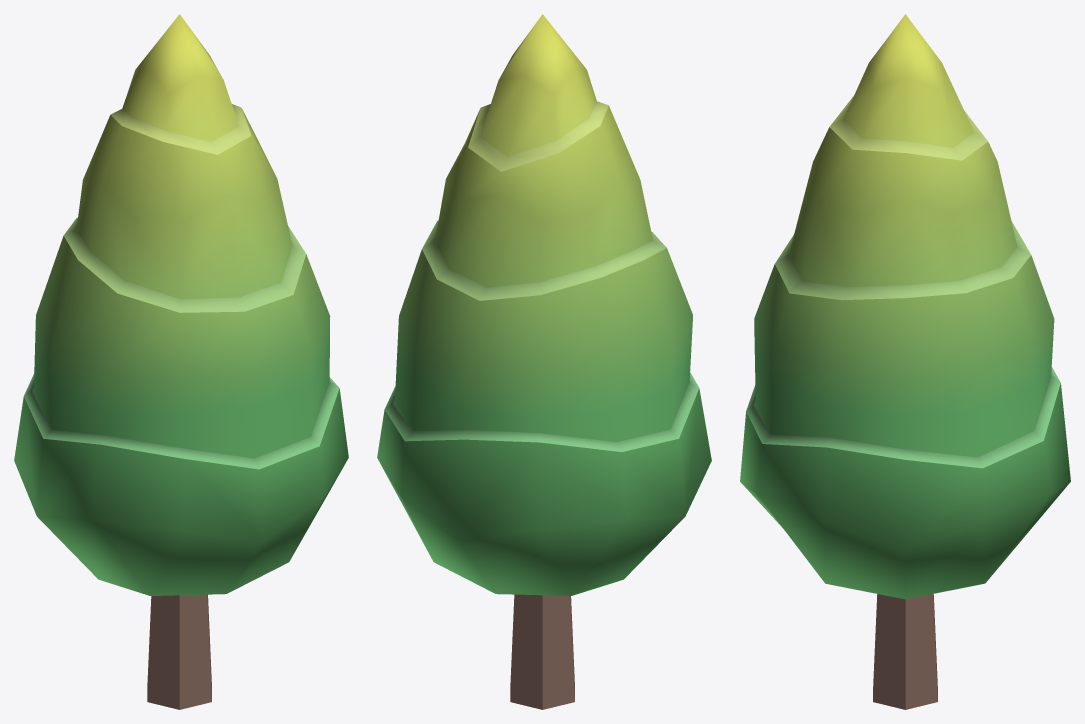
Rendered from fantasy_plant_017.fbx.
3 renders of one model, left to right at view 1: azimuth 30°, elevation 25°; view 2: azimuth 150°, elevation 25°; view 3: azimuth 270°, elevation 25°, orthographic.
Parts seen in each view (by area): view 1: fantasy_plant.017; view 2: fantasy_plant.017; view 3: fantasy_plant.017.
Boxes of the visible parts, x1=… form: fantasy_plant.017: x1=14, y1=14, x2=348, y2=709; fantasy_plant.017: x1=377, y1=14, x2=711, y2=709; fantasy_plant.017: x1=740, y1=14, x2=1070, y2=709.
Size of the model in its own units: 285 by 648 by 286.
Materials: 1 (1 with a texture image).
